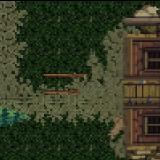Interaction: (38, 61, 81, 106)
Obstacle: (71, 0, 160, 160)
